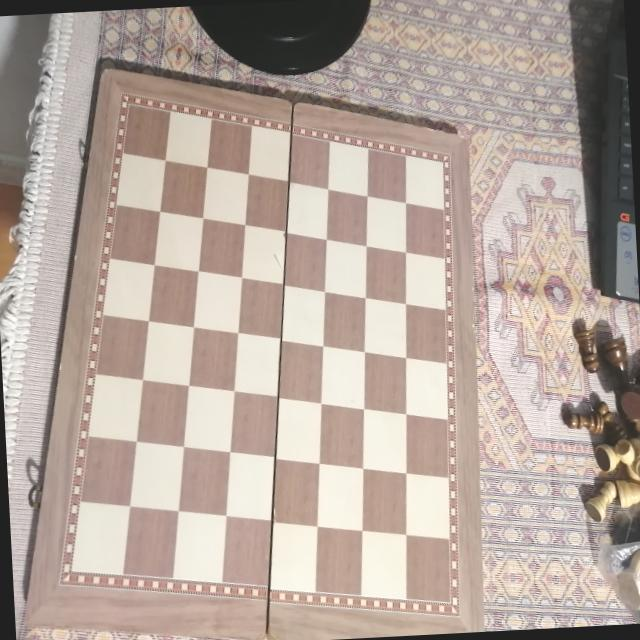corners: (450, 133, 476, 155), (19, 612, 36, 634), (99, 63, 117, 83)
